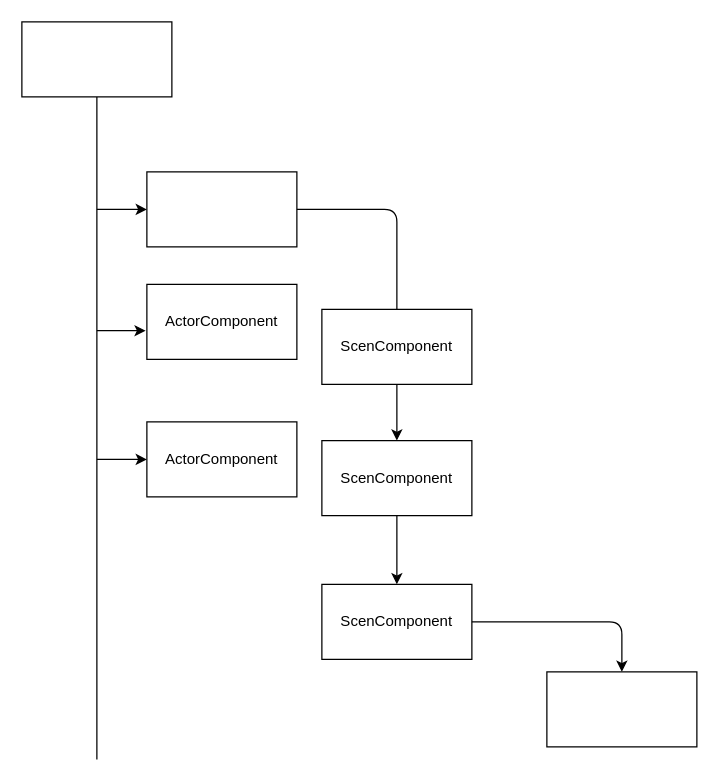
Image size: 719x783. Some labels were removed from this diagram. The centre of each missing label's shape, as x and y in pixels:
"Actor" goes at [96,59].
"RootComponent (SceneComponent)" goes at [221,209].
"SceneComponent" goes at [621,709].
